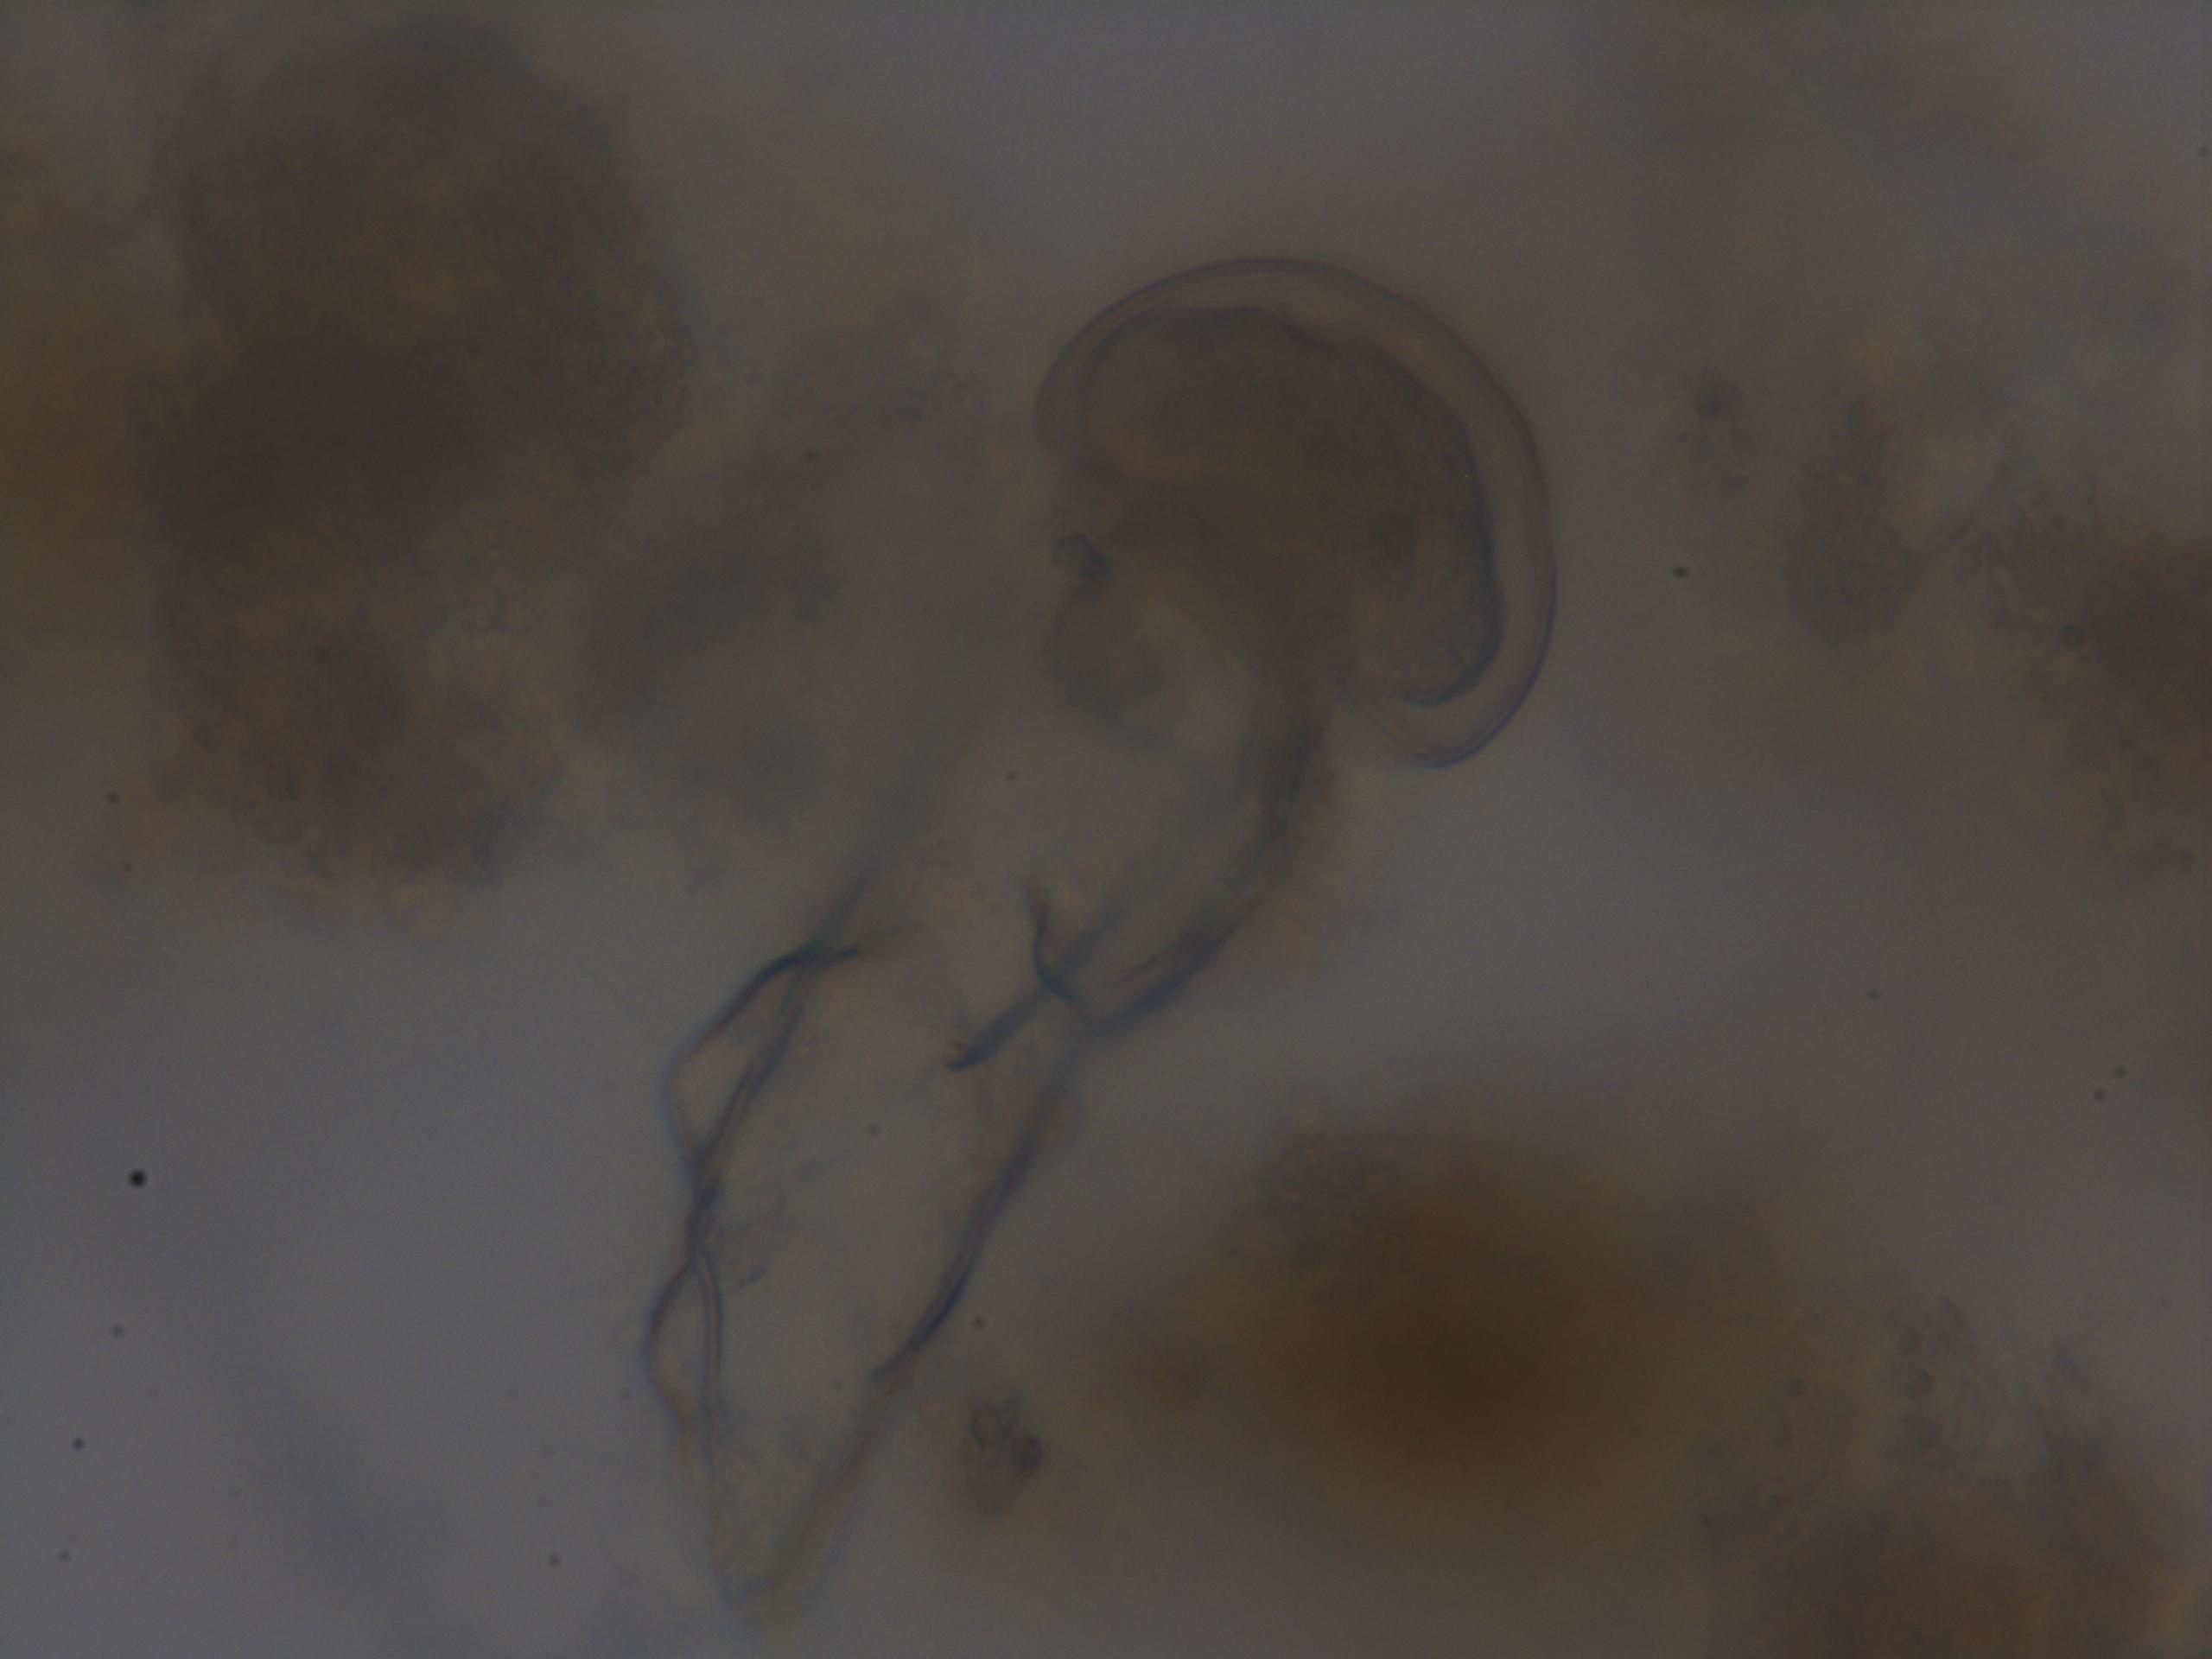protozoa: (1015, 240, 1571, 781)
